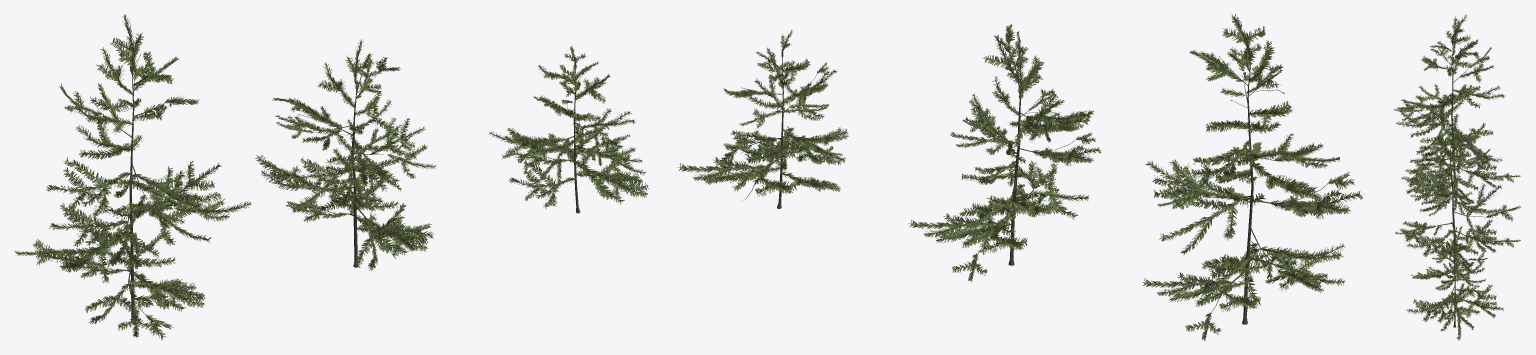
Rendered from fir_sapling_1k.gltf.
3 views of the same model, side by side, from view 1: azimuth 30°, elevation 25°; view 2: azimuth 150°, elevation 25°; view 3: azimuth 270°, elevation 25° (orthographic). The views are drawn at different scales.
Visible parts, largest first — view 1: fir_sapling_a, fir_sapling_b, fir_sapling_c; view 2: fir_sapling_a, fir_sapling_b, fir_sapling_c; view 3: fir_sapling_a, fir_sapling_b, fir_sapling_c.
Part boxes in pixels (<box>): fir_sapling_a: <box>14,14,251,340</box>; fir_sapling_b: <box>255,39,435,270</box>; fir_sapling_c: <box>489,46,648,213</box>; fir_sapling_a: <box>1142,14,1363,340</box>; fir_sapling_b: <box>908,24,1101,281</box>; fir_sapling_c: <box>677,29,848,208</box>; fir_sapling_a: <box>1394,14,1520,211</box>; fir_sapling_b: <box>1395,129,1520,276</box>; fir_sapling_c: <box>1406,221,1503,340</box>.
Size of the model in its own units: 2.74 by 1.3 by 0.8264.
2 materials, 2 textured.
